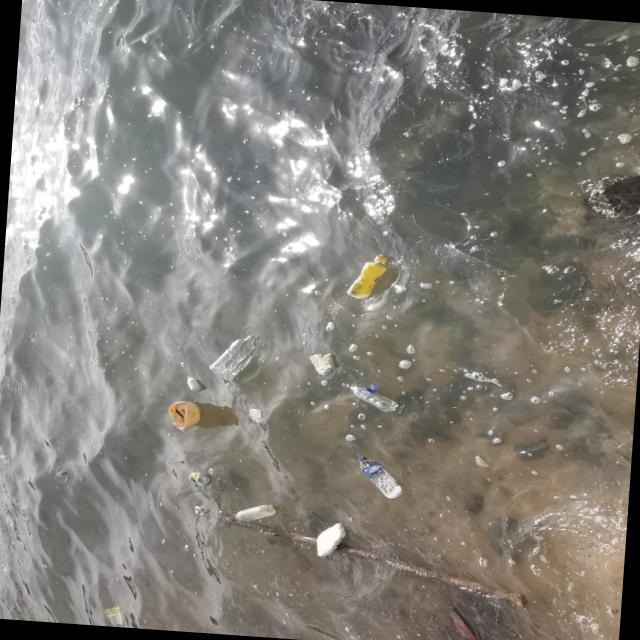can: (191, 472, 211, 485)
foam: (314, 523, 350, 559), (307, 351, 337, 376)
plastic bottle: (353, 453, 404, 500), (211, 332, 261, 375), (349, 255, 392, 301), (348, 385, 398, 414), (233, 502, 277, 523), (186, 376, 205, 391)
